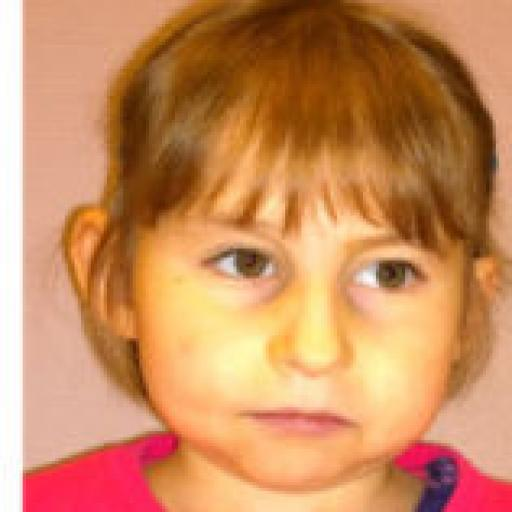Autism: (103, 28, 512, 488)
